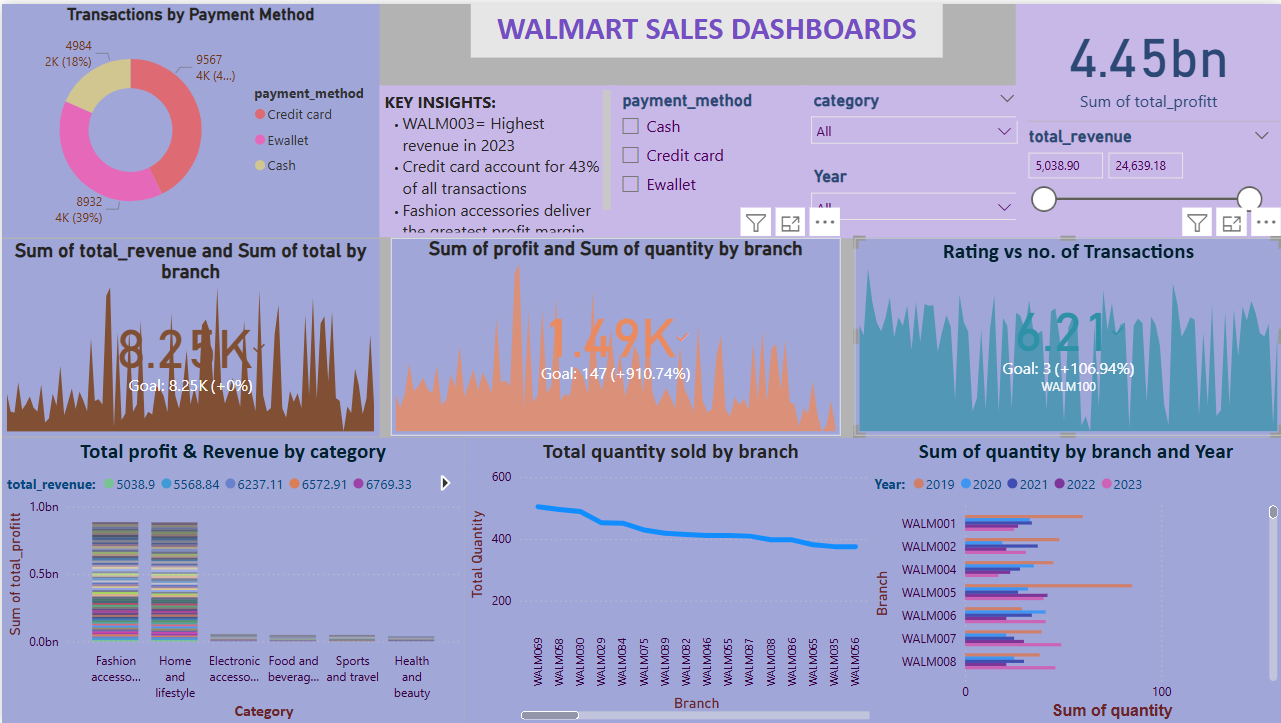

The page's visual inventory and layout, read from the dashboard file:
{"tool":"powerbi","page":{"name":"Page 1","canvas":[1280,720],"ordinal":0},"visuals":[{"type":"slicer","fields":{"Values":["walmart_branch_trans.payment_method"]},"box":[607.9,81,194.9,152.3],"z":8},{"type":"slicer","fields":{"Values":["Walmart_Clean_Data.date.Variation.Date Hierarchy.Year"]},"box":[798.6,157.8,226.4,76.8],"z":9},{"type":"slicer","fields":{"Values":["walmart_branch_sales.total_revenue"]},"box":[1014.1,107,266.2,152.3],"z":12},{"type":"lineChart","title":"Total quantity sold by branch","fields":{"Category":["Walmart_Clean_Data.branch"],"Y":["Sum(Walmart_Clean_Data.quantity)"]},"box":[462.4,433.6,413,286.8],"z":13},{"type":"donutChart","title":"Transactions by Payment Method","fields":{"Y":["Sum(walmart_branch_trans.no_transactions)"],"Category":["walmart_branch_trans.payment_method"],"Series":["walmart_branch_trans.quantity_sold"]},"box":[0,0,377.4,233.3],"z":14},{"type":"columnChart","title":"Total profit & Revenue by category","fields":{"Category":["Walmart_Clean_Data.category"],"Y":["Sum(Walmart_Clean_Data.total_profitt)"],"Series":["walmart_branch_sales.total_revenue"]},"box":[0,433.6,462.4,286.8],"z":15},{"type":"slicer","fields":{"Values":["Walmart_Clean_Data.category"]},"box":[798.6,81,226.4,76.8],"z":16},{"type":"kpi","title":"Rating vs no. of Transactions","fields":{"Indicator":["Avg(Walmart_Clean_Data.rating)"],"Goal":["CountNonNull(walmart_branch_trans.no_transactions)"],"TrendLine":["Walmart_Clean_Data.branch"]},"box":[852.1,233.3,428.1,199],"z":17},{"type":"card","fields":{"Values":["Sum(Walmart_Clean_Data.total_profitt)"]},"box":[1014.1,0,266.2,116.6],"z":18},{"type":"textbox","box":[469.3,0,472,53.5],"z":19},{"type":"clusteredBarChart","fields":{"Category":["Walmart_Clean_Data.branch"],"Series":["Walmart_Clean_Data.date.Variation.Date Hierarchy.Year"],"Y":["Sum(Walmart_Clean_Data.quantity)"]},"box":[867.2,433.6,413,286.8],"z":20},{"type":"kpi","fields":{"Indicator":["Sum(walmart_branch_sales.total_revenue)"],"TrendLine":["walmart_branch_sales.branch"],"Goal":["Sum(Walmart_Clean_Data.total)"]},"box":[0,234.6,377.4,197.6],"z":22},{"type":"kpi","fields":{"Indicator":["Sum(Walmart_Clean_Data.profit)"],"TrendLine":["walmart_branch_sales.branch"],"Goal":["Sum(Walmart_Clean_Data.quantity)"]},"box":[388.3,233.3,450.1,199],"z":23},{"type":"textbox","box":[377.4,81,236,152.3],"z":25}]}

Visuals, with their boxes in screenshot pixels (x1, y1, x2, y2), scaled from the page's 1280x720 canvas onto the 1281x723 screenshot:
slicer - walmart_branch_trans.payment_method: locate(608, 81, 803, 234)
slicer - Walmart_Clean_Data.date.Variation.Date Hierarchy.Year: locate(799, 158, 1026, 236)
slicer - walmart_branch_sales.total_revenue: locate(1015, 107, 1280, 260)
"Total quantity sold by branch" lineChart: locate(463, 435, 876, 722)
"Transactions by Payment Method" donutChart: locate(0, 0, 378, 234)
"Total profit & Revenue by category" columnChart: locate(0, 435, 463, 722)
slicer - Walmart_Clean_Data.category: locate(799, 81, 1026, 158)
"Rating vs no. of Transactions" kpi: locate(853, 234, 1280, 434)
card - Sum(Walmart_Clean_Data.total_profitt): locate(1015, 0, 1280, 117)
textbox: locate(470, 0, 942, 54)
clusteredBarChart - Walmart_Clean_Data.branch x Walmart_Clean_Data.date.Variation.Date Hierarchy.Year: locate(868, 435, 1280, 722)
kpi - Sum(walmart_branch_sales.total_revenue) x walmart_branch_sales.branch: locate(0, 236, 378, 434)
kpi - Sum(Walmart_Clean_Data.profit) x walmart_branch_sales.branch: locate(389, 234, 839, 434)
textbox: locate(378, 81, 614, 234)
